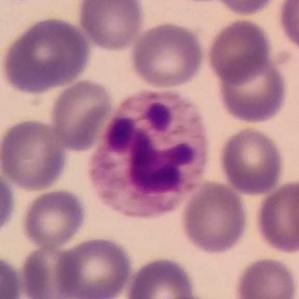Neutrophil: (92, 82, 214, 214)
RBC: (0, 14, 93, 95), (212, 54, 290, 126), (178, 179, 250, 256), (128, 20, 207, 90), (52, 234, 134, 299), (0, 116, 70, 192), (47, 77, 116, 153), (216, 125, 287, 196), (204, 16, 274, 84), (18, 187, 89, 251), (252, 177, 299, 256), (75, 0, 146, 52), (124, 254, 198, 299), (22, 249, 86, 299), (232, 255, 299, 299), (0, 168, 18, 240), (275, 0, 299, 54), (210, 0, 284, 17), (0, 252, 25, 299)
